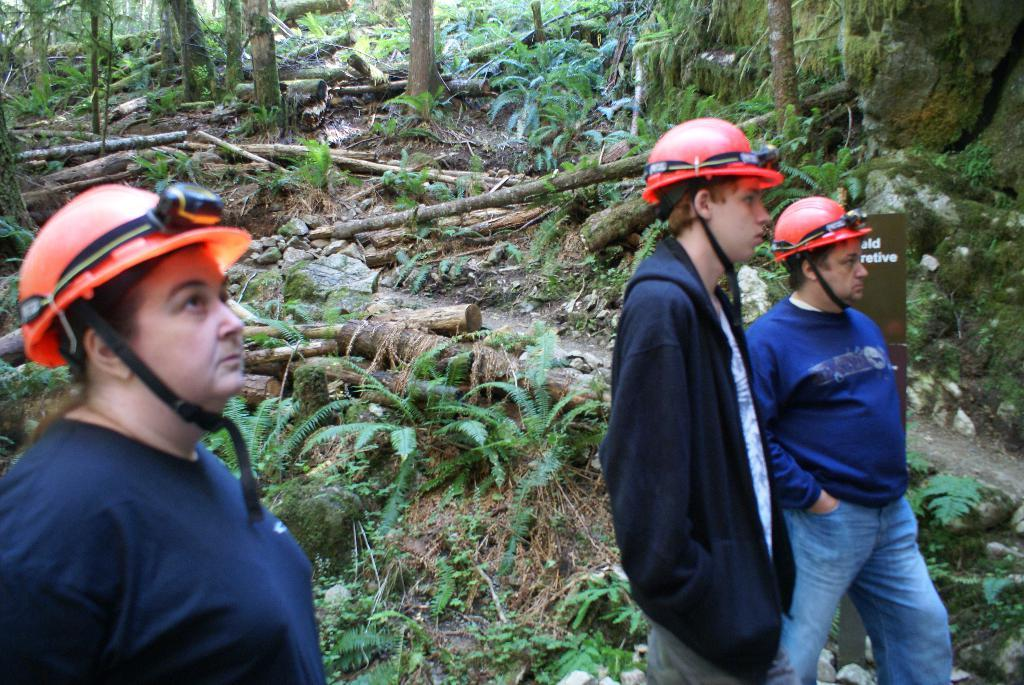helmet: (18, 184, 252, 393), (642, 117, 786, 259), (769, 195, 873, 301)
